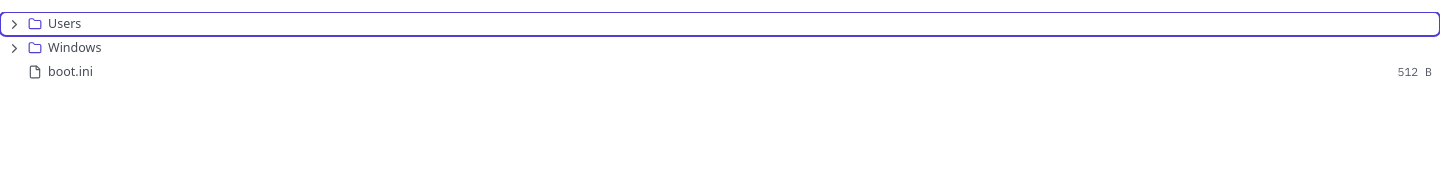
FileTree keyboard contract › keeps a row in the tab order after the active row is collapsed away
The image size is (1440, 172).
Check: the text "Users" is shown, box [48, 15, 81, 32]
Press Arrowright
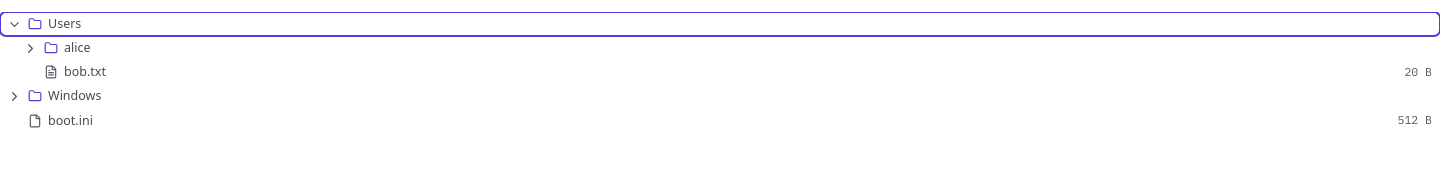
Check: the text "alice" is shown, box [64, 39, 90, 56]
Press Arrowright
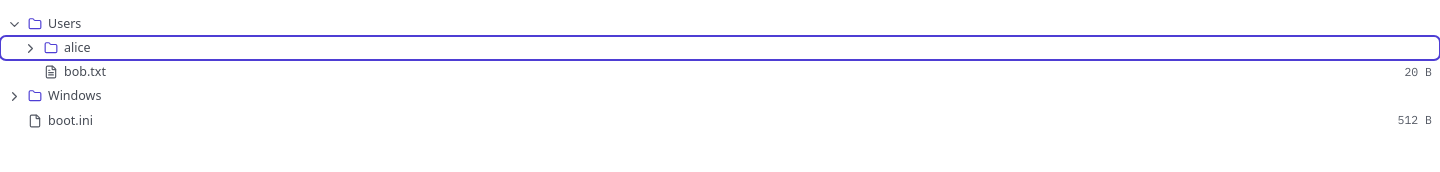
Click the text "Users" at (65, 24), box [48, 15, 81, 32]
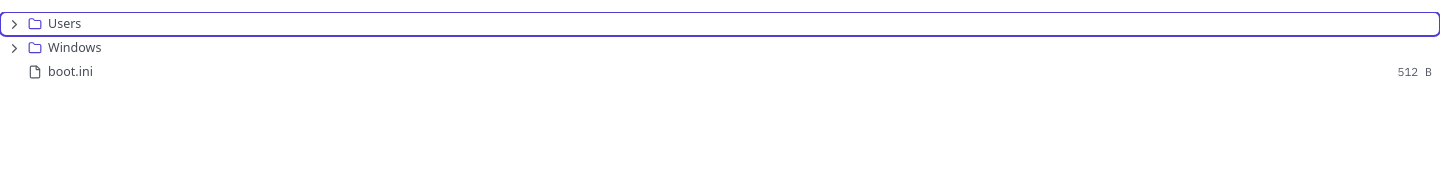
Check: the text "alice" is gone
